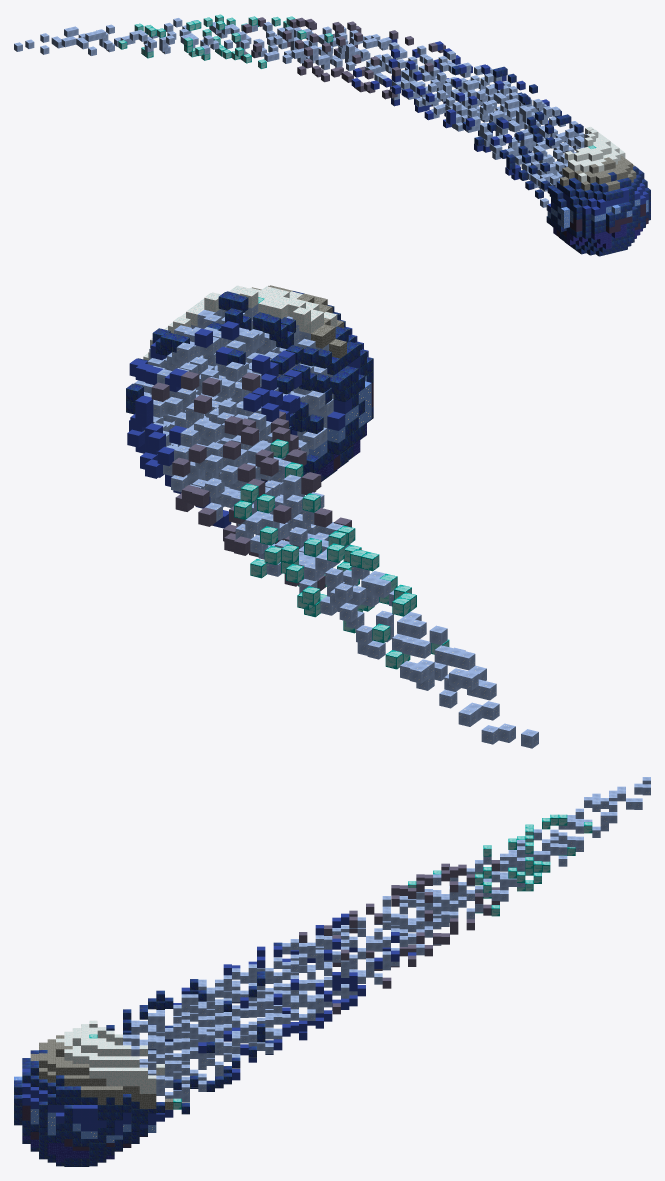
The model's file is diamond.glb.
3 views of the same model, one above another, from view 1: azimuth 30°, elevation 25°; view 2: azimuth 150°, elevation 25°; view 3: azimuth 270°, elevation 25° (orthographic). The views are drawn at different scales.
Parts seen in each view (by area): view 1: minecraft:blue_stained_glass; view 2: minecraft:blue_stained_glass; view 3: minecraft:blue_stained_glass.
Part boxes in pixels (x1=…): minecraft:blue_stained_glass: x1=14, y1=14, x2=650, y2=256; minecraft:blue_stained_glass: x1=126, y1=285, x2=538, y2=748; minecraft:blue_stained_glass: x1=14, y1=777, x2=650, y2=1166.
Bounding box in the file's own units: 70 × 26 × 76.
10 materials, 10 textured.
